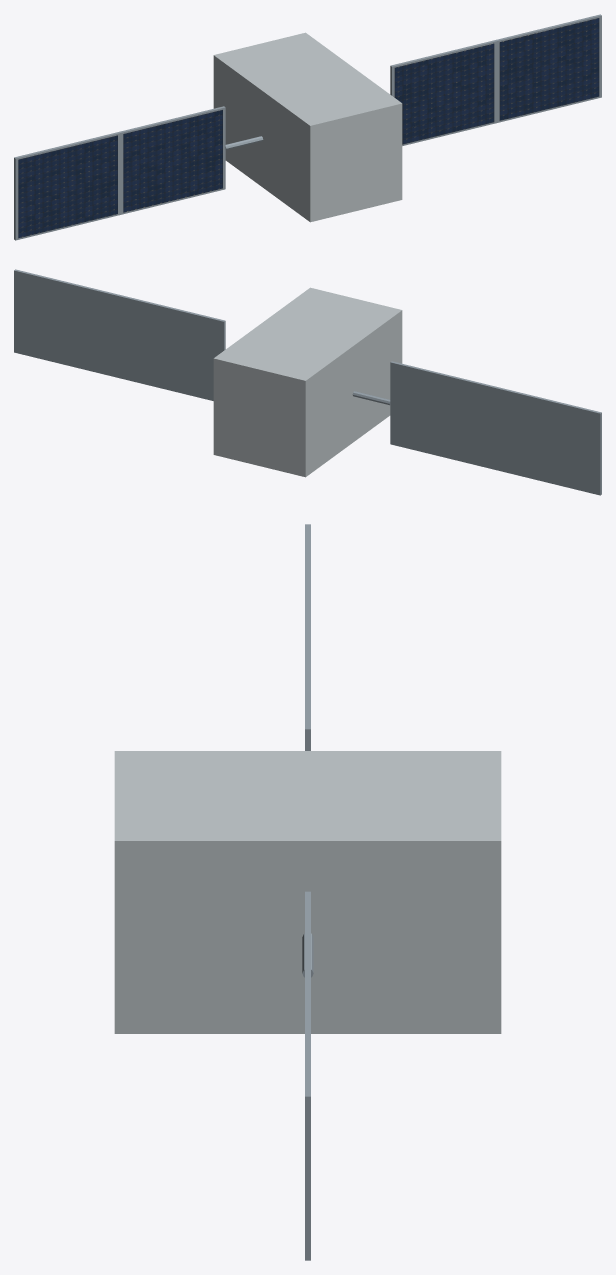
File: ref-aist-39133.glb
The picture shows the model from 3 angles, top to bottom: view 1: azimuth 30°, elevation 25°; view 2: azimuth 150°, elevation 25°; view 3: azimuth 270°, elevation 25°; orthographic projection. The views are drawn at different scales.
Visible parts, largest first — view 1: Photovoltaic laminates (×4), Spacecraft body, Array frame (×4); view 2: Array frame (×4), Spacecraft body; view 3: Spacecraft body, Array frame.
Boxes of the visible parts, box(x1,y1,x2,y2) form: Photovoltaic laminates (×4): box(18, 18, 599, 238); Spacecraft body: box(213, 32, 402, 222); Array frame (×4): box(14, 14, 601, 240); Array frame (×4): box(14, 269, 601, 495); Spacecraft body: box(213, 287, 402, 477); Spacecraft body: box(114, 751, 501, 1033); Array frame: box(305, 994, 310, 1260).
Size of the model in its own units: 7 by 1.1 by 2.
Materials: 3 (1 with a texture image).
